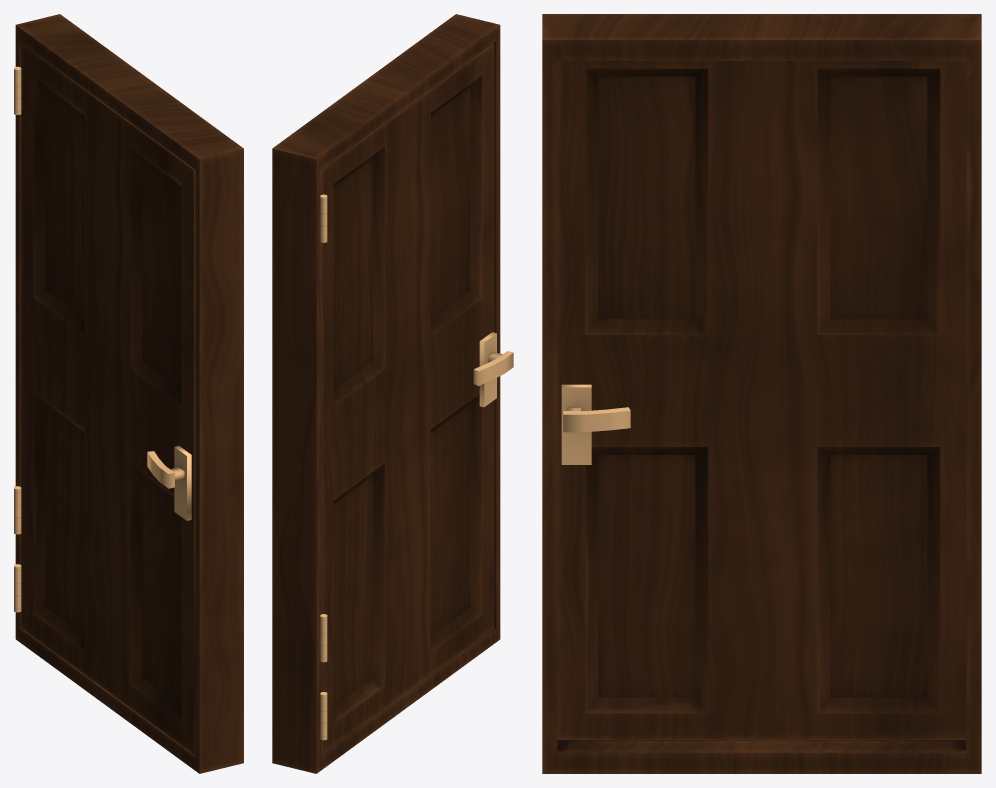
File: Door_Border_In_A.fbx
The picture shows the model from 3 angles, left to right: view 1: azimuth 30°, elevation 25°; view 2: azimuth 150°, elevation 25°; view 3: azimuth 270°, elevation 25°; orthographic projection. The views are drawn at different scales.
Visible parts, largest first — view 1: U_Door_A, U_Door_Border_In_A, U_Handle_A, U_Hinge; view 2: U_Door_A, U_Door_Border_In_A, U_Handle_A, U_Hinge; view 3: U_Door_A, U_Door_Border_In_A, U_Handle_A.
Boxes of the visible parts, x1=… form: U_Door_A: x1=21, y1=43, x2=195, y2=753; U_Door_Border_In_A: x1=15, y1=14, x2=243, y2=773; U_Handle_A: x1=147, y1=446, x2=191, y2=520; U_Hinge: x1=14, y1=66, x2=21, y2=612; U_Door_A: x1=320, y1=44, x2=494, y2=754; U_Door_Border_In_A: x1=272, y1=14, x2=500, y2=773; U_Handle_A: x1=473, y1=332, x2=513, y2=407; U_Hinge: x1=320, y1=194, x2=327, y2=740; U_Door_A: x1=557, y1=61, x2=966, y2=739; U_Door_Border_In_A: x1=542, y1=14, x2=981, y2=773; U_Handle_A: x1=561, y1=384, x2=630, y2=464.
Bounding box in the file's own units: 28.28 × 250 × 136.
